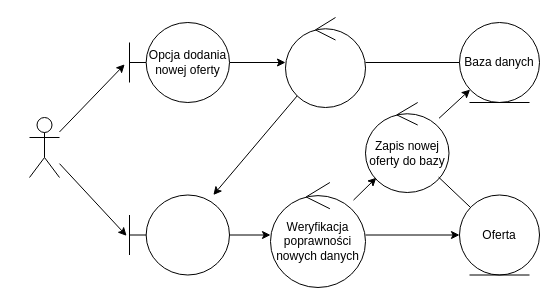
The diagram is 557 pixels wide and 305 high, and some of its shapes have lost their labels. Each missing label, with the centre of its shape:
Formularz tworzenia oferty: point 179,234
Pracownik: point 44,147
Weryfikacja możliwości dodania: point 325,62
